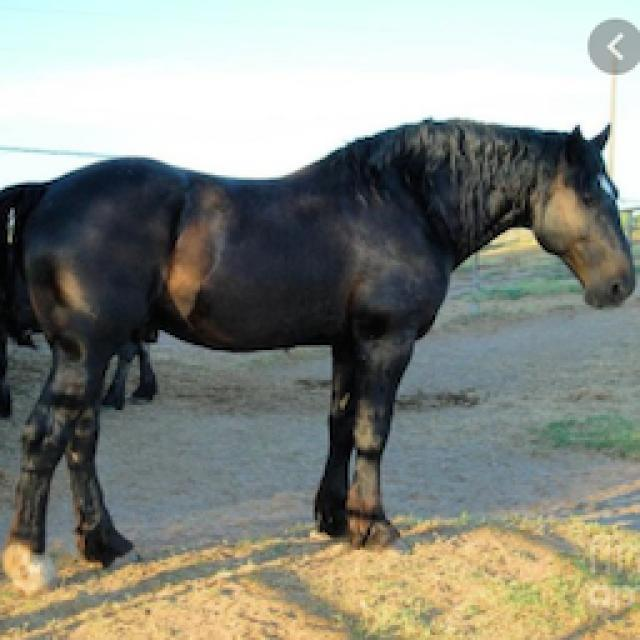Horse: (0, 108, 638, 598)
